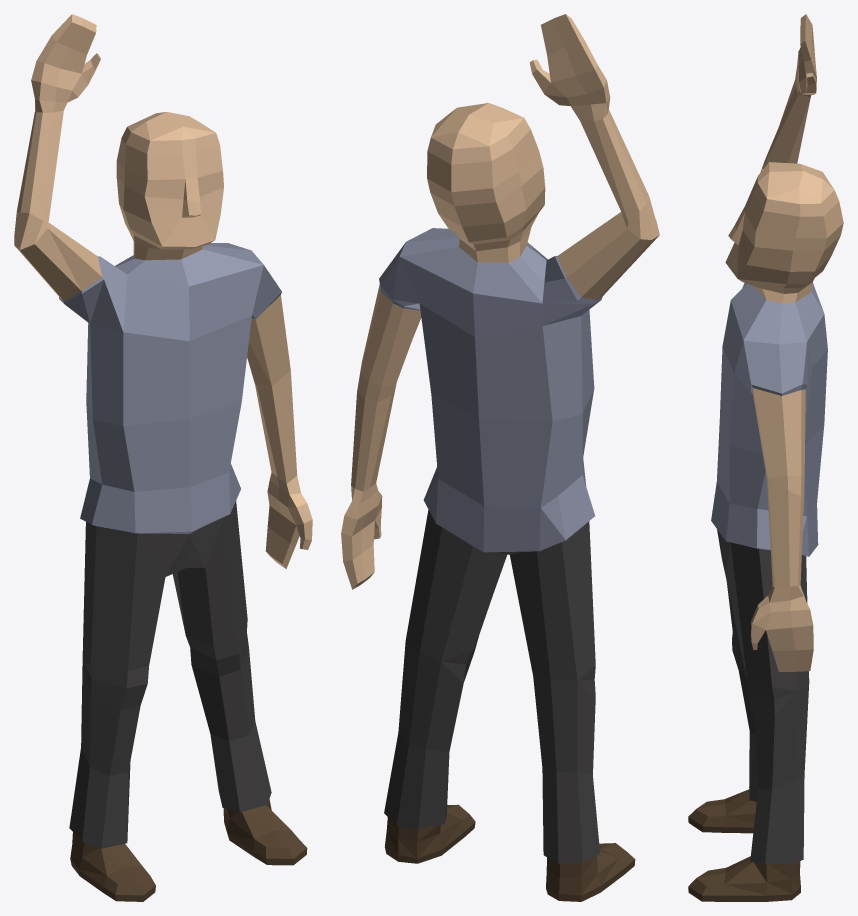
The model's file is Male_Standing_Waving.glb.
3 renders of one model, left to right at view 1: azimuth 30°, elevation 25°; view 2: azimuth 150°, elevation 25°; view 3: azimuth 270°, elevation 25°, orthographic. The views are drawn at different scales.
Visible parts, largest first — view 1: Male_Standing_Waving; view 2: Male_Standing_Waving; view 3: Male_Standing_Waving.
Part boxes in pixels (x1=…): Male_Standing_Waving: x1=14, y1=14, x2=312, y2=901; Male_Standing_Waving: x1=341, y1=14, x2=659, y2=901; Male_Standing_Waving: x1=688, y1=14, x2=843, y2=901.
Bounding box in the file's own units: 1.57 × 4.47 × 0.7819.
